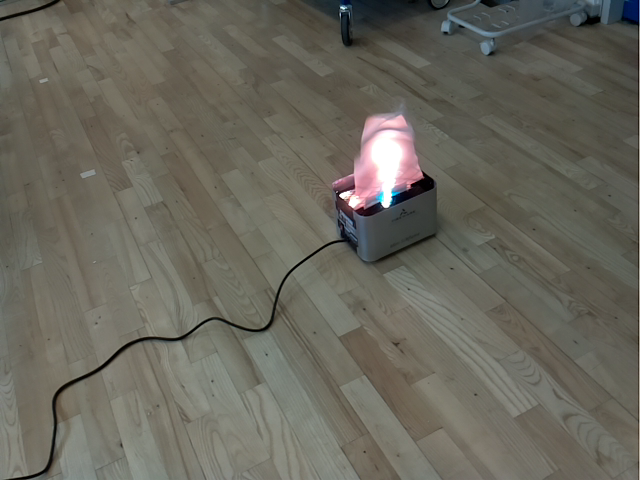fire: (349, 109, 425, 211)
